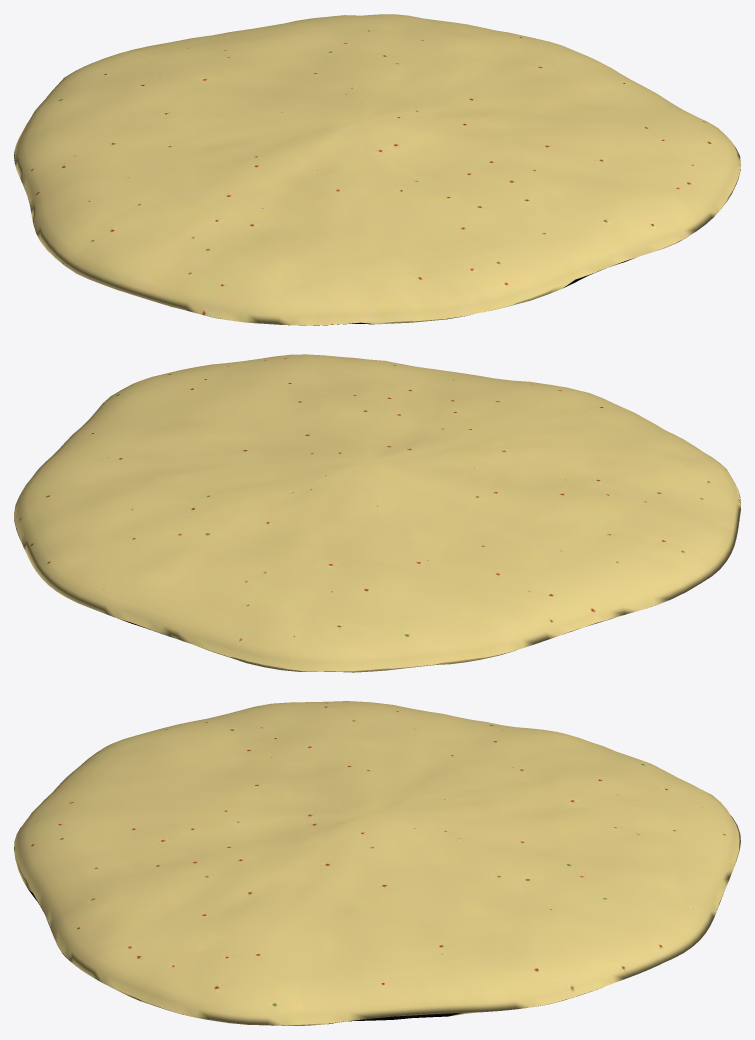
Rendered from mayo_burger.glb.
3 renders of one model, top to bottom at view 1: azimuth 30°, elevation 25°; view 2: azimuth 150°, elevation 25°; view 3: azimuth 270°, elevation 25°, orthographic. The views are drawn at different scales.
Parts seen in each view (by area): view 1: EX_Mayo_burger; view 2: EX_Mayo_burger; view 3: EX_Mayo_burger.
Part boxes in pixels (bbox=[...]): EX_Mayo_burger: bbox=[14, 14, 740, 325]; EX_Mayo_burger: bbox=[14, 354, 740, 672]; EX_Mayo_burger: bbox=[14, 701, 740, 1025].
Size of the model in its own units: 0.0944 by 0.00803 by 0.0915.
Materials: 1 (1 with a texture image).
